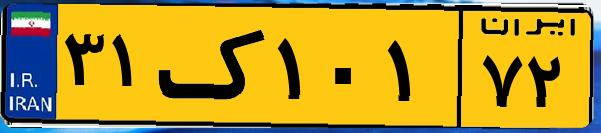0: (330, 28, 385, 110)
1: (270, 28, 330, 110), (385, 28, 445, 110), (110, 28, 158, 98)
2: (525, 38, 570, 115)
3: (57, 26, 110, 100)
7: (475, 38, 525, 113)
ک: (158, 12, 270, 120)
